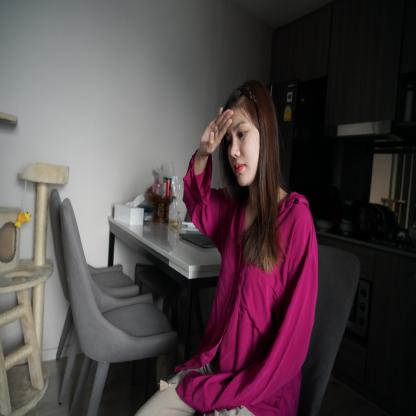Sick: (197, 103, 235, 160)
